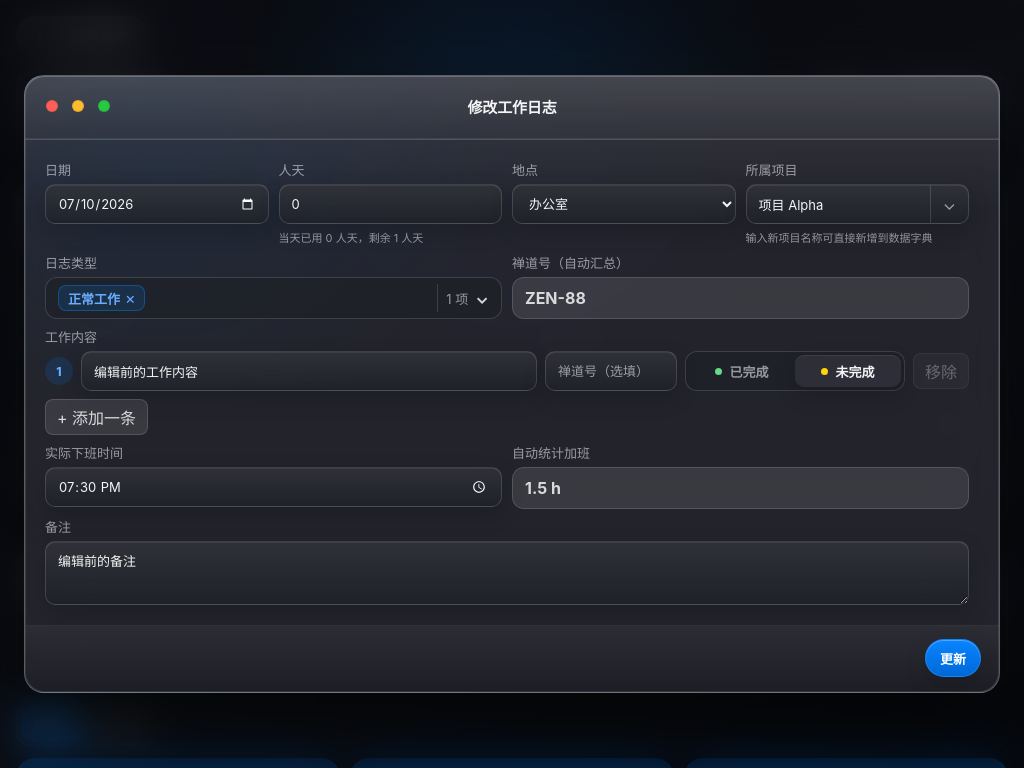
Test: WorkLog MacDialog integration › loads and submits edited fields from the teleported footer button
Check: the heading with class "mac-dialog-title" reads "修改工作日志", box [468,98,556,117]
Check: the date field labelled "日期" holds "2026-07-10", box [45,184,268,224]
Click the submit button at (953, 658), box [925,639,981,677]
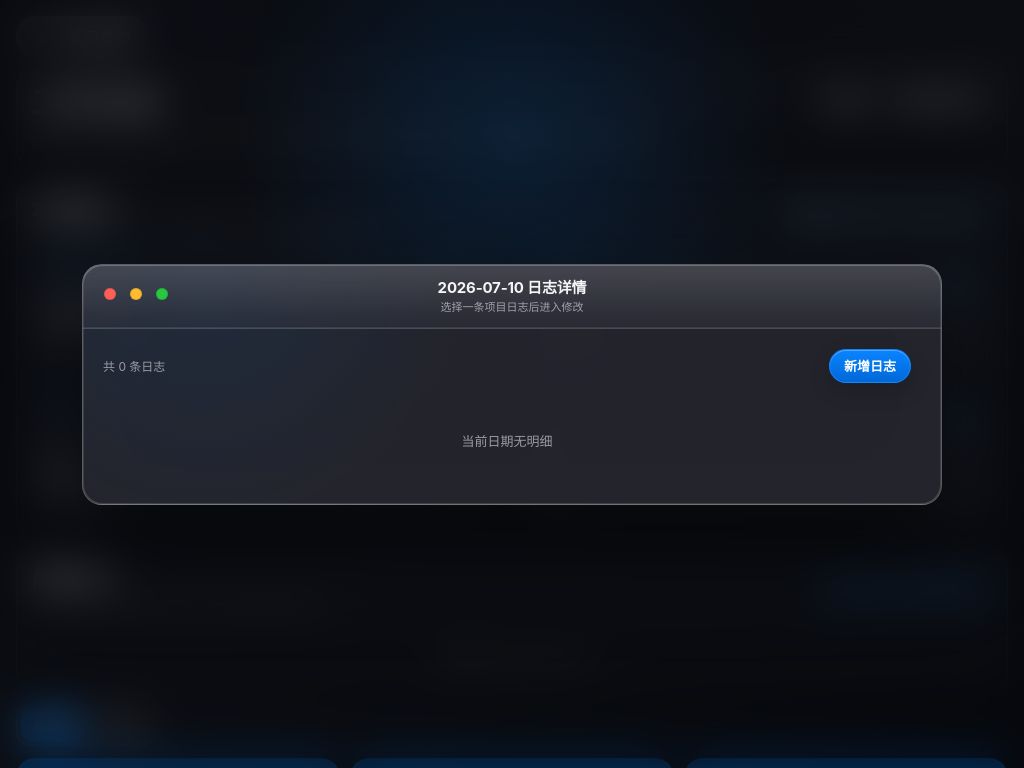
Check: the dialog with class "work-log-dialog" is gone
